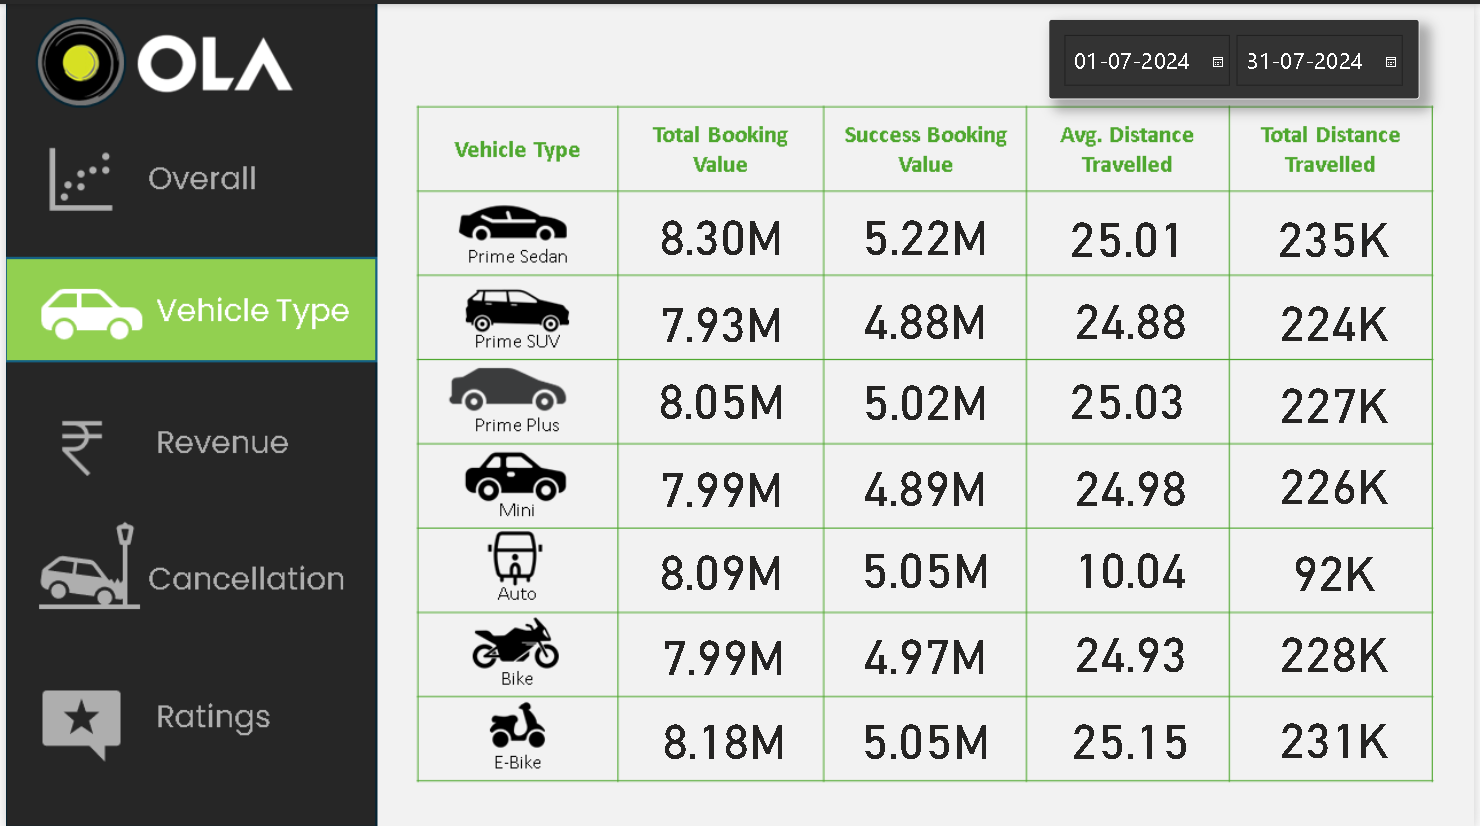

What the dashboard file says about the page in this screenshot:
{"tool":"powerbi","page":{"name":"Vehicle Type","canvas":[1280,720],"ordinal":1},"visuals":[{"type":"actionButton","box":[1.5,341.9,324.3,86.6],"z":0},{"type":"actionButton","box":[0,110.1,324.3,86.6],"z":1000},{"type":"actionButton","box":[1.5,444.6,324.3,92.4],"z":2000},{"type":"actionButton","box":[0,584,324.3,86.6],"z":3000},{"type":"card","fields":{"Values":["Sum(Bookings-100000-Rows.booking_value)"]},"box":[537.5,167.2,170.3,64.1],"z":4000},{"type":"card","fields":{"Values":["Sum(Bookings-100000-Rows.booking_value)"]},"box":[718.8,167.2,162.5,64.1],"z":5000},{"type":"card","fields":{"Values":["Avg(Bookings-100000-Rows.ride_distance)"]},"box":[892.2,168.8,170.3,64.1],"z":6000},{"type":"card","fields":{"Values":["Sum(Bookings-100000-Rows.ride_distance)"]},"box":[1081.2,168.8,151.6,64.1],"z":7000},{"type":"card","fields":{"Values":["Sum(Bookings-100000-Rows.booking_value)"]},"box":[550,246.9,145.3,56.2],"z":8000},{"type":"card","fields":{"Values":["Sum(Bookings-100000-Rows.booking_value)"]},"box":[718.8,240.6,162.5,64.1],"z":9000},{"type":"card","fields":{"Values":["Avg(Bookings-100000-Rows.ride_distance)"]},"box":[893.8,240.6,170.3,64.1],"z":10000},{"type":"card","fields":{"Values":["Sum(Bookings-100000-Rows.ride_distance)"]},"box":[1081.2,242.2,151.6,64.1],"z":11000},{"type":"card","fields":{"Values":["Sum(Bookings-100000-Rows.booking_value)"]},"box":[550,314.1,145.3,56.2],"z":12000},{"type":"card","fields":{"Values":["Sum(Bookings-100000-Rows.booking_value)"]},"box":[718.8,310.9,162.5,64.1],"z":13000},{"type":"card","fields":{"Values":["Avg(Bookings-100000-Rows.ride_distance)"]},"box":[892.2,309.4,170.3,64.1],"z":14000},{"type":"card","fields":{"Values":["Sum(Bookings-100000-Rows.ride_distance)"]},"box":[1081.2,314.1,151.6,64.1],"z":15000},{"type":"card","fields":{"Values":["Sum(Bookings-100000-Rows.ride_distance)"]},"box":[1081.2,385.9,151.6,60.9],"z":16000},{"type":"card","fields":{"Values":["Avg(Bookings-100000-Rows.ride_distance)"]},"box":[893.8,385.9,170.3,64.1],"z":17000},{"type":"card","fields":{"Values":["Sum(Bookings-100000-Rows.booking_value)"]},"box":[718.8,385.9,162.5,64.1],"z":18000},{"type":"card","fields":{"Values":["Sum(Bookings-100000-Rows.booking_value)"]},"box":[550,390.6,145.3,56.2],"z":19000},{"type":"card","fields":{"Values":["Sum(Bookings-100000-Rows.booking_value)"]},"box":[550,462.5,145.3,56.2],"z":20000},{"type":"card","fields":{"Values":["Sum(Bookings-100000-Rows.booking_value)"]},"box":[718.8,457.8,162.5,64.1],"z":21000},{"type":"card","fields":{"Values":["Sum(Bookings-100000-Rows.booking_value)"]},"box":[718.8,537.5,162.5,53.1],"z":22000},{"type":"card","fields":{"Values":["Sum(Bookings-100000-Rows.booking_value)"]},"box":[718.8,606.2,162.5,64.1],"z":23000},{"type":"card","fields":{"Values":["Sum(Bookings-100000-Rows.booking_value)"]},"box":[551.6,537.5,145.3,56.2],"z":24000},{"type":"card","fields":{"Values":["Sum(Bookings-100000-Rows.booking_value)"]},"box":[553.1,610.9,145.3,56.2],"z":25000},{"type":"card","fields":{"Values":["Avg(Bookings-100000-Rows.ride_distance)"]},"box":[893.8,531.2,170.3,64.1],"z":26000},{"type":"card","fields":{"Values":["Avg(Bookings-100000-Rows.ride_distance)"]},"box":[893.8,606.2,170.3,64.1],"z":27000},{"type":"card","fields":{"Values":["Avg(Bookings-100000-Rows.ride_distance)"]},"box":[893.8,457.8,170.3,64.1],"z":28000},{"type":"card","fields":{"Values":["Sum(Bookings-100000-Rows.ride_distance)"]},"box":[1081.2,460.9,151.6,60.9],"z":29000},{"type":"card","fields":{"Values":["Sum(Bookings-100000-Rows.ride_distance)"]},"box":[1081.2,532.8,151.6,60.9],"z":30000},{"type":"card","fields":{"Values":["Sum(Bookings-100000-Rows.ride_distance)"]},"box":[1081.2,606.2,151.6,60.9],"z":31000},{"type":"slicer","title":"Date","fields":{"Values":["Bookings-100000-Rows.booking_date"]},"box":[909.4,12.5,323.4,70.3],"z":31001}]}

Visuals, with their boxes on the page's 1280x720 design canvas (x1, y1, x2, y2). These are canvas units, not pixel positions in the 1480x826 screenshot, which may show the page scaled, cropped or inside an application window:
actionButton: x1=2, y1=342, x2=326, y2=428
actionButton: x1=0, y1=110, x2=324, y2=197
actionButton: x1=2, y1=445, x2=326, y2=537
actionButton: x1=0, y1=584, x2=324, y2=671
card - Sum(Bookings-100000-Rows.booking_value): x1=538, y1=167, x2=708, y2=231
card - Sum(Bookings-100000-Rows.booking_value): x1=719, y1=167, x2=881, y2=231
card - Avg(Bookings-100000-Rows.ride_distance): x1=892, y1=169, x2=1062, y2=233
card - Sum(Bookings-100000-Rows.ride_distance): x1=1081, y1=169, x2=1233, y2=233
card - Sum(Bookings-100000-Rows.booking_value): x1=550, y1=247, x2=695, y2=303
card - Sum(Bookings-100000-Rows.booking_value): x1=719, y1=241, x2=881, y2=305
card - Avg(Bookings-100000-Rows.ride_distance): x1=894, y1=241, x2=1064, y2=305
card - Sum(Bookings-100000-Rows.ride_distance): x1=1081, y1=242, x2=1233, y2=306
card - Sum(Bookings-100000-Rows.booking_value): x1=550, y1=314, x2=695, y2=370
card - Sum(Bookings-100000-Rows.booking_value): x1=719, y1=311, x2=881, y2=375
card - Avg(Bookings-100000-Rows.ride_distance): x1=892, y1=309, x2=1062, y2=374
card - Sum(Bookings-100000-Rows.ride_distance): x1=1081, y1=314, x2=1233, y2=378
card - Sum(Bookings-100000-Rows.ride_distance): x1=1081, y1=386, x2=1233, y2=447
card - Avg(Bookings-100000-Rows.ride_distance): x1=894, y1=386, x2=1064, y2=450
card - Sum(Bookings-100000-Rows.booking_value): x1=719, y1=386, x2=881, y2=450
card - Sum(Bookings-100000-Rows.booking_value): x1=550, y1=391, x2=695, y2=447
card - Sum(Bookings-100000-Rows.booking_value): x1=550, y1=462, x2=695, y2=519
card - Sum(Bookings-100000-Rows.booking_value): x1=719, y1=458, x2=881, y2=522
card - Sum(Bookings-100000-Rows.booking_value): x1=719, y1=538, x2=881, y2=591
card - Sum(Bookings-100000-Rows.booking_value): x1=719, y1=606, x2=881, y2=670
card - Sum(Bookings-100000-Rows.booking_value): x1=552, y1=538, x2=697, y2=594
card - Sum(Bookings-100000-Rows.booking_value): x1=553, y1=611, x2=698, y2=667
card - Avg(Bookings-100000-Rows.ride_distance): x1=894, y1=531, x2=1064, y2=595
card - Avg(Bookings-100000-Rows.ride_distance): x1=894, y1=606, x2=1064, y2=670
card - Avg(Bookings-100000-Rows.ride_distance): x1=894, y1=458, x2=1064, y2=522
card - Sum(Bookings-100000-Rows.ride_distance): x1=1081, y1=461, x2=1233, y2=522
card - Sum(Bookings-100000-Rows.ride_distance): x1=1081, y1=533, x2=1233, y2=594
card - Sum(Bookings-100000-Rows.ride_distance): x1=1081, y1=606, x2=1233, y2=667
"Date" slicer: x1=909, y1=12, x2=1233, y2=83
